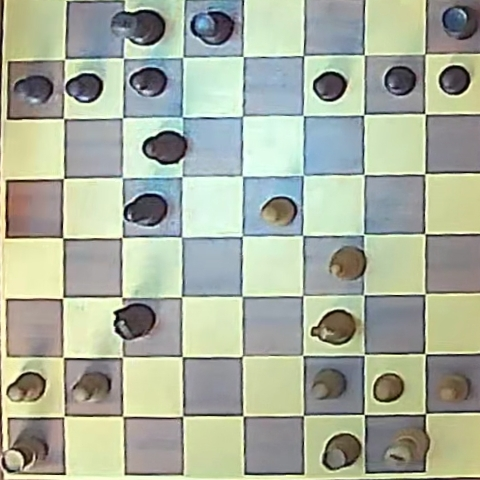black-bishop: (142, 130, 186, 165), (124, 193, 167, 227)
black-king: (112, 9, 165, 46)
black-knight: (113, 303, 155, 341)
black-pawn: (14, 75, 54, 105), (66, 72, 104, 102), (129, 67, 167, 97), (313, 71, 346, 101), (438, 65, 470, 95), (384, 66, 417, 95)
black-rook: (191, 10, 235, 45), (441, 5, 477, 39)
white-bishop: (329, 247, 366, 282)
white-king: (384, 427, 428, 464)
white-knight: (311, 310, 355, 346)
white-pawn: (6, 371, 46, 403), (71, 373, 109, 404), (311, 369, 344, 400), (261, 197, 296, 226), (374, 373, 404, 402), (437, 375, 468, 403)
white-rook: (2, 431, 47, 473), (322, 433, 361, 471)
